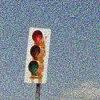traffic lights: (28, 28, 50, 80)
